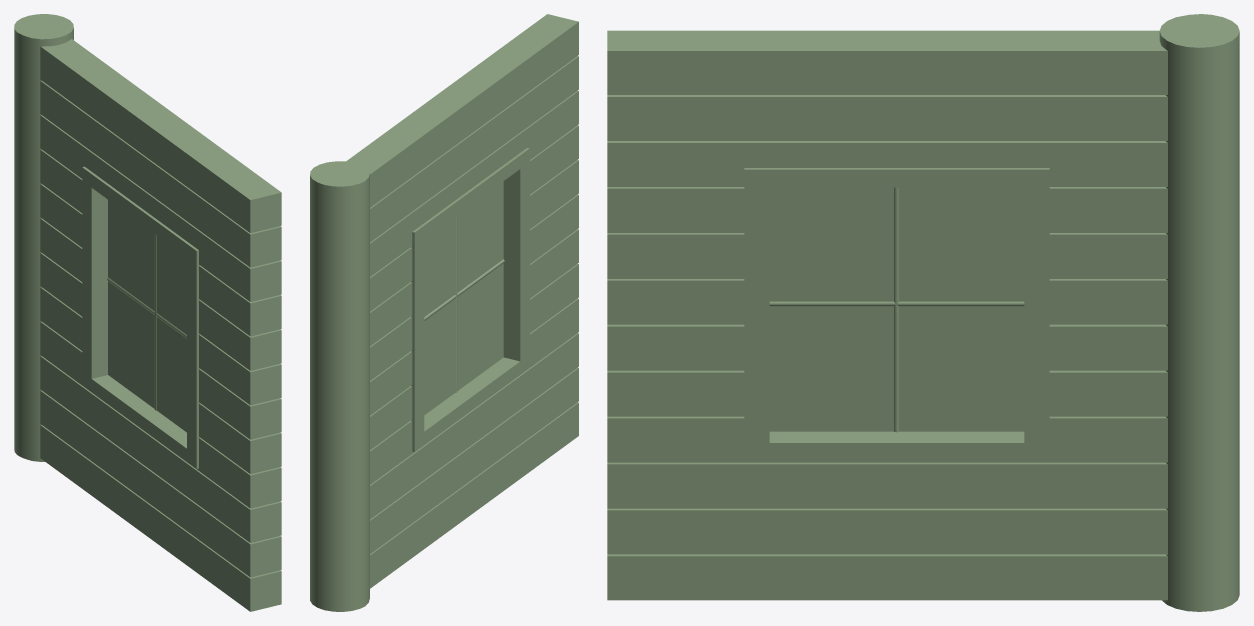
File: pared_ventana.fbx
3 renders of one model, left to right at view 1: azimuth 30°, elevation 25°; view 2: azimuth 150°, elevation 25°; view 3: azimuth 270°, elevation 25°, orthographic. The views are drawn at different scales.
Visible parts, largest first — view 1: pared_ventana; view 2: pared_ventana; view 3: pared_ventana.
Part boxes in pixels (box(x1,y1,x2,y2)): pared_ventana: box(14, 14, 281, 611); pared_ventana: box(310, 14, 578, 611); pared_ventana: box(607, 14, 1239, 611).
Bounding box in the file's own units: 0.7425 × 5.77 × 5.86.
